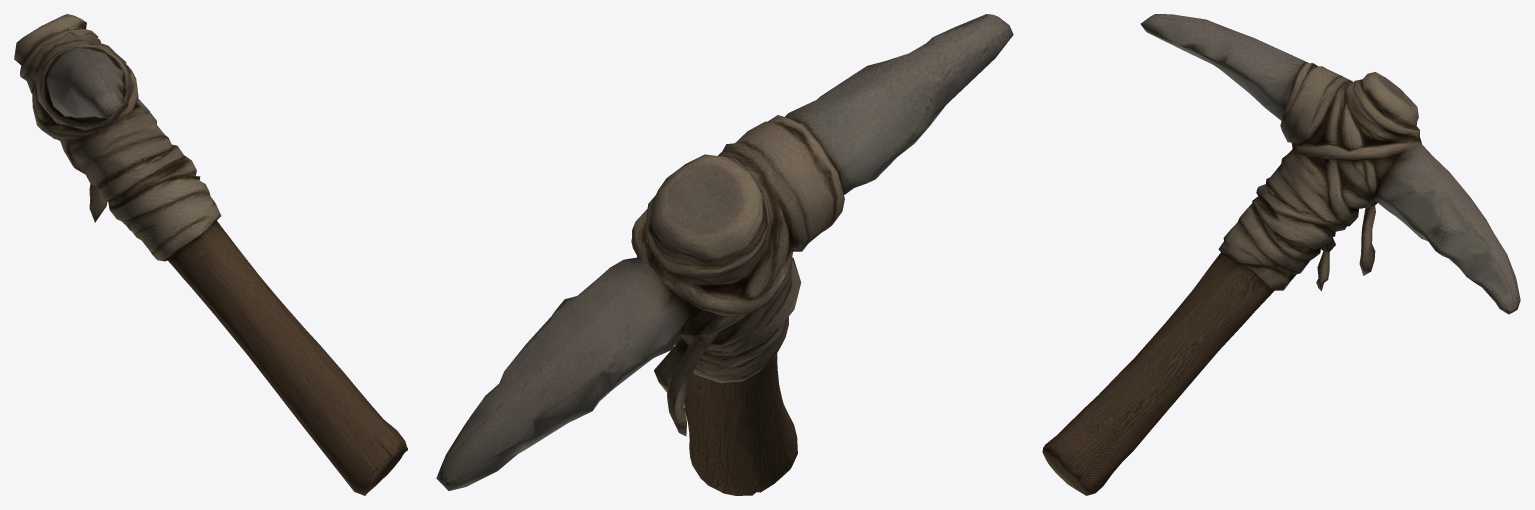
The model's file is stone_pickaxe.fbx.
3 renders of one model, left to right at view 1: azimuth 30°, elevation 25°; view 2: azimuth 150°, elevation 25°; view 3: azimuth 270°, elevation 25°, orthographic. The views are drawn at different scales.
Visible parts, largest first — view 1: tripo_node_8f968c2b; view 2: tripo_node_8f968c2b; view 3: tripo_node_8f968c2b.
Boxes of the visible parts, x1,y1,x2,y2 form: tripo_node_8f968c2b: [14, 14, 407, 495]; tripo_node_8f968c2b: [436, 14, 1013, 495]; tripo_node_8f968c2b: [1042, 14, 1520, 495].
Size of the model in its own units: 0.5695 by 0.864 by 0.9829.
